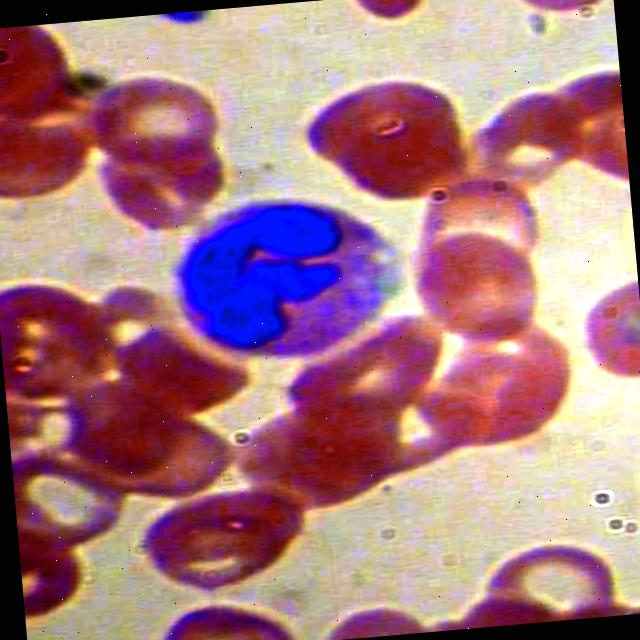Platelets: (142, 8, 215, 34)
RBC: (134, 480, 310, 594), (290, 64, 464, 178), (405, 224, 543, 350), (85, 58, 226, 174), (89, 130, 230, 245), (472, 529, 623, 627)
WBC: (163, 185, 414, 368)
